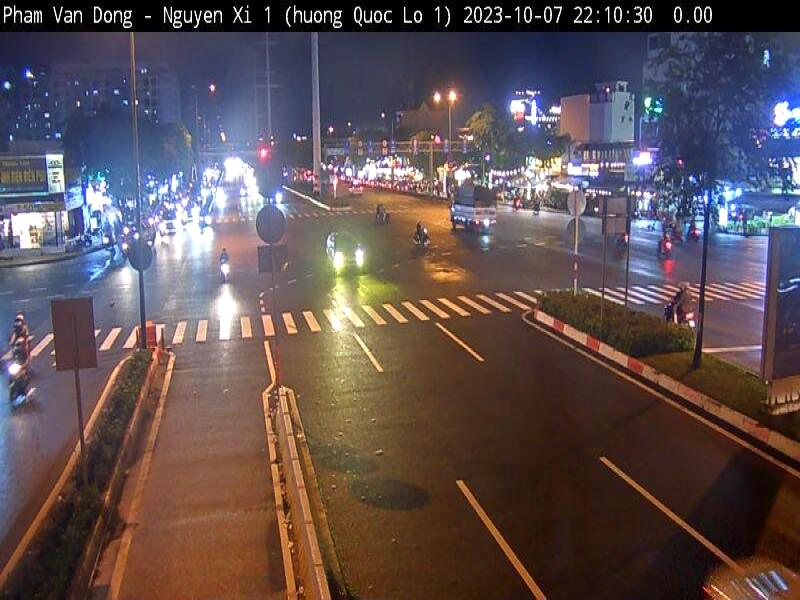car: (698, 548, 800, 600), (324, 230, 365, 277)
motorcycle: (660, 298, 698, 336), (6, 360, 32, 410), (10, 336, 36, 366)
truck: (450, 184, 498, 238)
